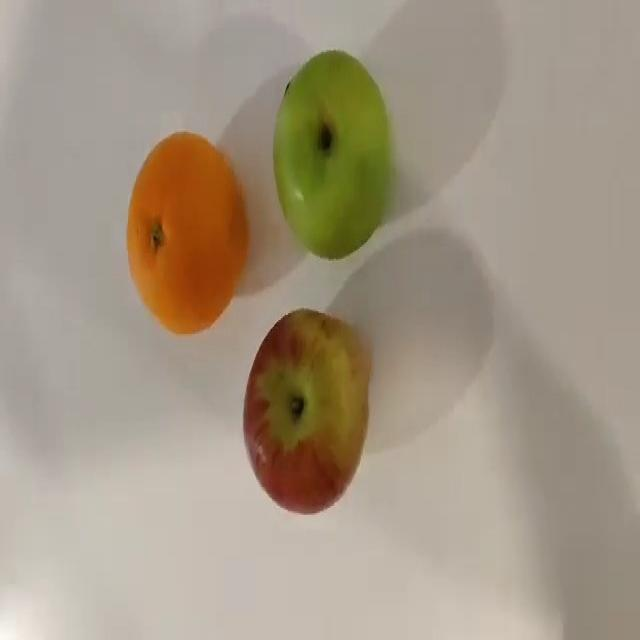Apple: (242, 307, 371, 514), (272, 48, 392, 260)
Orange: (125, 129, 250, 334)
